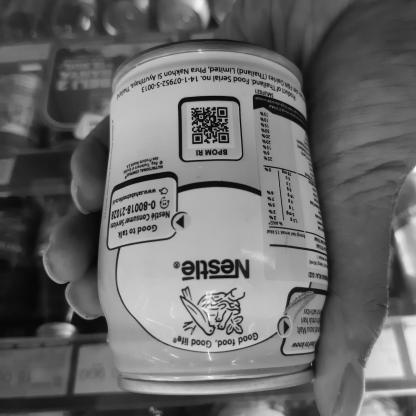alumunium_can: (80, 34, 336, 410)
